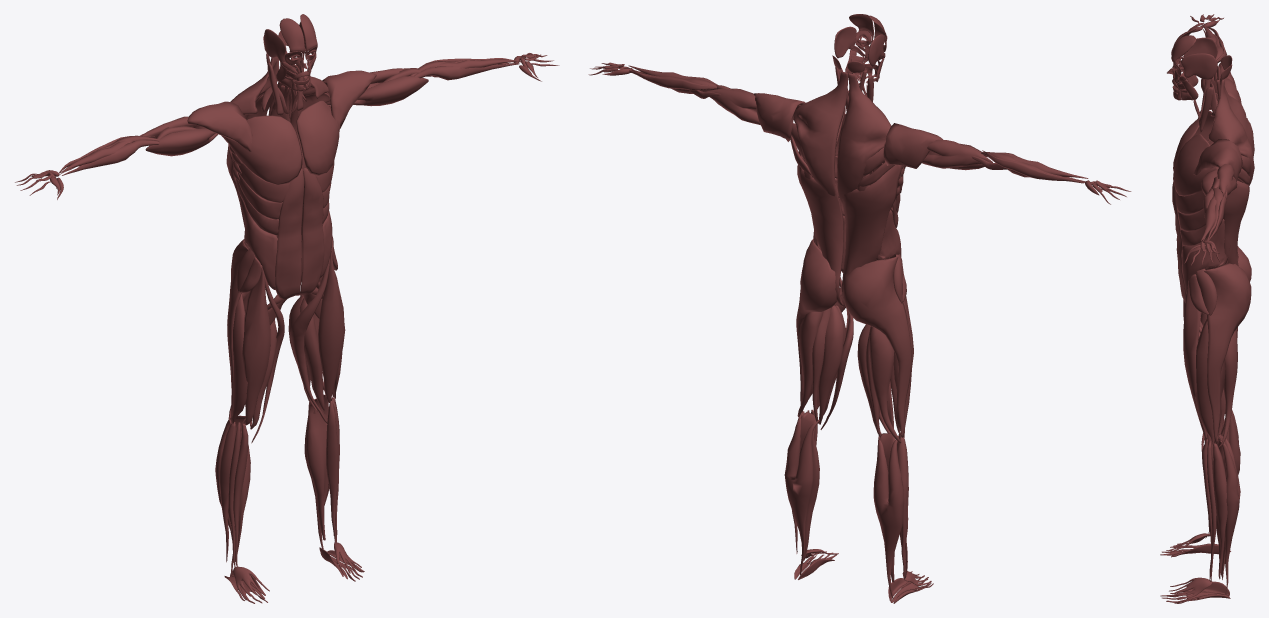
The model's file is muscule.fbx.
The picture shows the model from 3 angles, left to right: view 1: azimuth 30°, elevation 25°; view 2: azimuth 150°, elevation 25°; view 3: azimuth 270°, elevation 25°; orthographic projection. The views are drawn at different scales.
Parts seen in each view (by area): view 1: TorsoMusclesRectusAbdominisMuscle, TorsoMusclesPectoralMuscleRight, LegMusclesRectusFemorisMuscleRight, LegMusclesRectusFemorisMuscleLeft, TorsoMusclesPectoralMuscleLeft, LegMusclesSoleusMuscleLeft, ArmMusclesDeltoideusMuscleRight, ArmMusclesDeltoideusMuscleLeft, TorsoMusclesObliqueRight04, LegMusclesSartoriusMuscleLeft, LegMusclesVastusLateralisMuscleRight, ArmMusclesBicepsBrachiiLeft (+13 smaller); view 2: LegMusclesTensorFasciaeLataeMuscleRight, TorsoMusclesLatissimMuscleRight, TorsoMusclesTrapeziusMuscleRight, TorsoMusclesTrapeziusMuscleLeft, LegMusclesGastrocnemiusMuscleRight, TorsoMusclesLatissimMuscleLeft, LegMusclesGastrocnemiusMuscleLeft, LegMusclesTensorFasciaeLataeMuscleLeft, ArmMusclesDeltoideusMuscleRight, LegMusclesBicepFemorisMuscleRight1, LegMusclesVastusIntermediusMuscleLeft, ArmMusclesDeltoideusMuscleLeft (+8 smaller); view 3: LegMusclesTensorFasciaeLataeMuscleLeft, LegMusclesVastusLateralisMuscleLeft, TorsoMusclesPectoralMuscleLeft, TorsoMusclesTrapeziusMuscleLeft, LegMusclesRectusFemorisMuscleLeft, TorsoMusclesLatissimMuscleLeft, LegMusclesGastrocnemiusMuscleLeft, TorsoMusclesObliqueLeft01, LegMusclesPeroneuslongusMuscleLeft, ArmMusclesDeltoideusMuscleLeft, LegMusclesBicepFemorisMuscleLeft1, HeadMusclesTemporalMuscleLeft (+31 smaller).
Part boxes in pixels (x1=…): TorsoMusclesRectusAbdominisMuscle: x1=275, y1=167, x2=324, y2=299; TorsoMusclesPectoralMuscleRight: x1=225, y1=115, x2=302, y2=184; LegMusclesRectusFemorisMuscleRight: x1=242, y1=268, x2=270, y2=425; LegMusclesRectusFemorisMuscleLeft: x1=318, y1=251, x2=345, y2=402; TorsoMusclesPectoralMuscleLeft: x1=296, y1=100, x2=339, y2=175; LegMusclesSoleusMuscleLeft: x1=306, y1=394, x2=328, y2=540; ArmMusclesDeltoideusMuscleRight: x1=187, y1=101, x2=252, y2=151; ArmMusclesDeltoideusMuscleLeft: x1=322, y1=70, x2=376, y2=130; TorsoMusclesObliqueRight04: x1=238, y1=190, x2=277, y2=289; LegMusclesSartoriusMuscleLeft: x1=290, y1=248, x2=331, y2=424; LegMusclesVastusLateralisMuscleRight: x1=232, y1=294, x2=247, y2=423; ArmMusclesBicepsBrachiiLeft: x1=353, y1=76, x2=428, y2=106; LegMusclesTensorFasciaeLataeMuscleRight: x1=842, y1=256, x2=911, y2=437; TorsoMusclesLatissimMuscleRight: x1=842, y1=165, x2=902, y2=306; TorsoMusclesTrapeziusMuscleRight: x1=837, y1=73, x2=891, y2=203; TorsoMusclesTrapeziusMuscleLeft: x1=793, y1=71, x2=848, y2=205; LegMusclesGastrocnemiusMuscleRight: x1=873, y1=435, x2=904, y2=598; TorsoMusclesLatissimMuscleLeft: x1=797, y1=151, x2=844, y2=306; LegMusclesGastrocnemiusMuscleLeft: x1=784, y1=413, x2=819, y2=575; LegMusclesTensorFasciaeLataeMuscleLeft: x1=796, y1=239, x2=839, y2=412; ArmMusclesDeltoideusMuscleRight: x1=883, y1=123, x2=943, y2=168; LegMusclesBicepFemorisMuscleRight1: x1=869, y1=326, x2=901, y2=443; LegMusclesVastusIntermediusMuscleLeft: x1=818, y1=305, x2=844, y2=424; ArmMusclesDeltoideusMuscleLeft: x1=754, y1=93, x2=805, y2=141; LegMusclesTensorFasciaeLataeMuscleLeft: x1=1204, y1=263, x2=1251, y2=443; LegMusclesVastusLateralisMuscleLeft: x1=1194, y1=318, x2=1225, y2=444; TorsoMusclesPectoralMuscleLeft: x1=1173, y1=134, x2=1218, y2=196; TorsoMusclesTrapeziusMuscleLeft: x1=1208, y1=79, x2=1254, y2=185; LegMusclesRectusFemorisMuscleLeft: x1=1183, y1=281, x2=1206, y2=439; TorsoMusclesLatissimMuscleLeft: x1=1223, y1=180, x2=1249, y2=265; LegMusclesGastrocnemiusMuscleLeft: x1=1219, y1=434, x2=1240, y2=594; TorsoMusclesObliqueLeft01: x1=1182, y1=219, x2=1230, y2=294; LegMusclesPeroneuslongusMuscleLeft: x1=1213, y1=443, x2=1227, y2=579; ArmMusclesDeltoideusMuscleLeft: x1=1193, y1=139, x2=1242, y2=181; LegMusclesBicepFemorisMuscleLeft1: x1=1218, y1=330, x2=1237, y2=448; HeadMusclesTemporalMuscleLeft: x1=1180, y1=53, x2=1217, y2=79.
Bounding box in the file's own units: 153 × 155 × 24.31.
